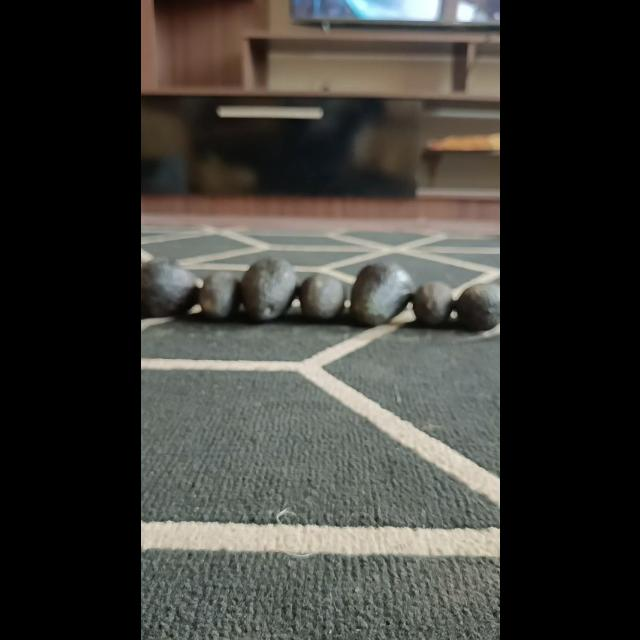Primera: (350, 262, 414, 326), (239, 254, 295, 322), (140, 259, 198, 317)
Segunda: (299, 272, 345, 320), (454, 282, 498, 332), (199, 270, 241, 320)
Tercera: (412, 280, 454, 326)
